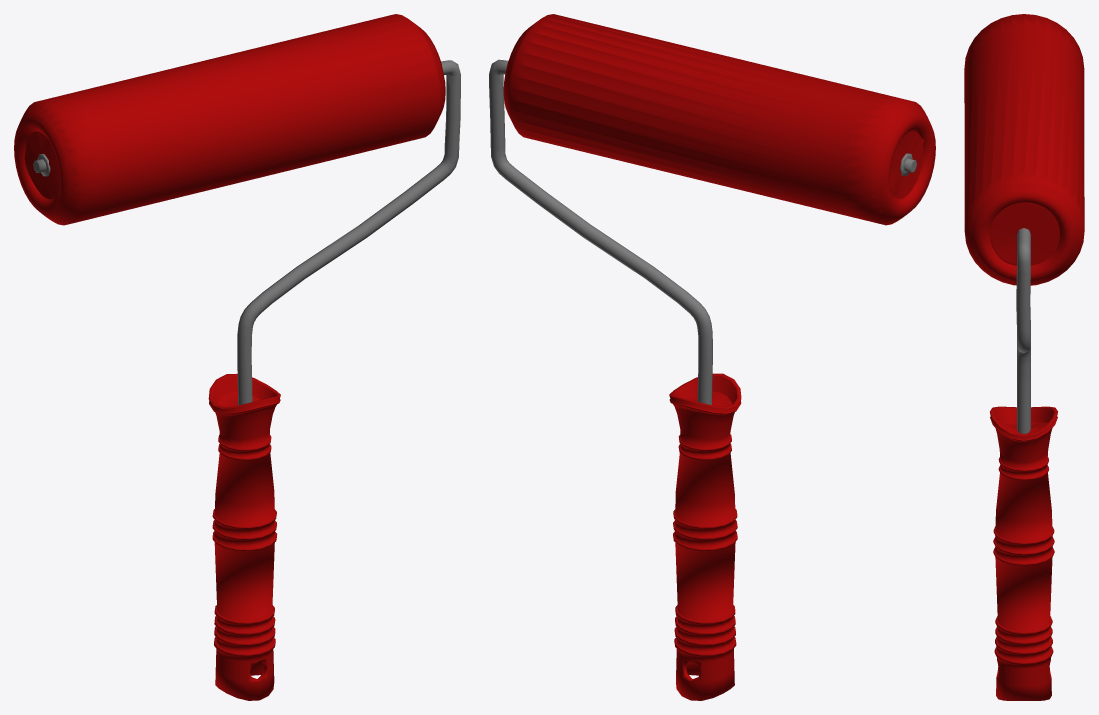
Rendered from pintador_rojo.fbx.
3 renders of one model, left to right at view 1: azimuth 30°, elevation 25°; view 2: azimuth 150°, elevation 25°; view 3: azimuth 270°, elevation 25°, orthographic. The views are drawn at different scales.
Parts seen in each view (by area): view 1: pintador; view 2: pintador; view 3: pintador.
Part boxes in pixels (bbox=[...]): pintador: bbox=[14, 14, 460, 700]; pintador: bbox=[489, 14, 935, 700]; pintador: bbox=[964, 14, 1084, 700].
Size of the model in its own units: 1.05 by 1.5 by 0.2756.
